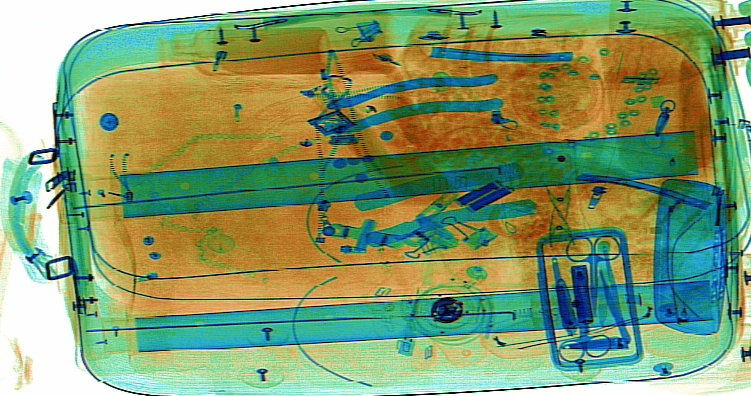scissors: (565, 233, 620, 321), (555, 281, 610, 363)
